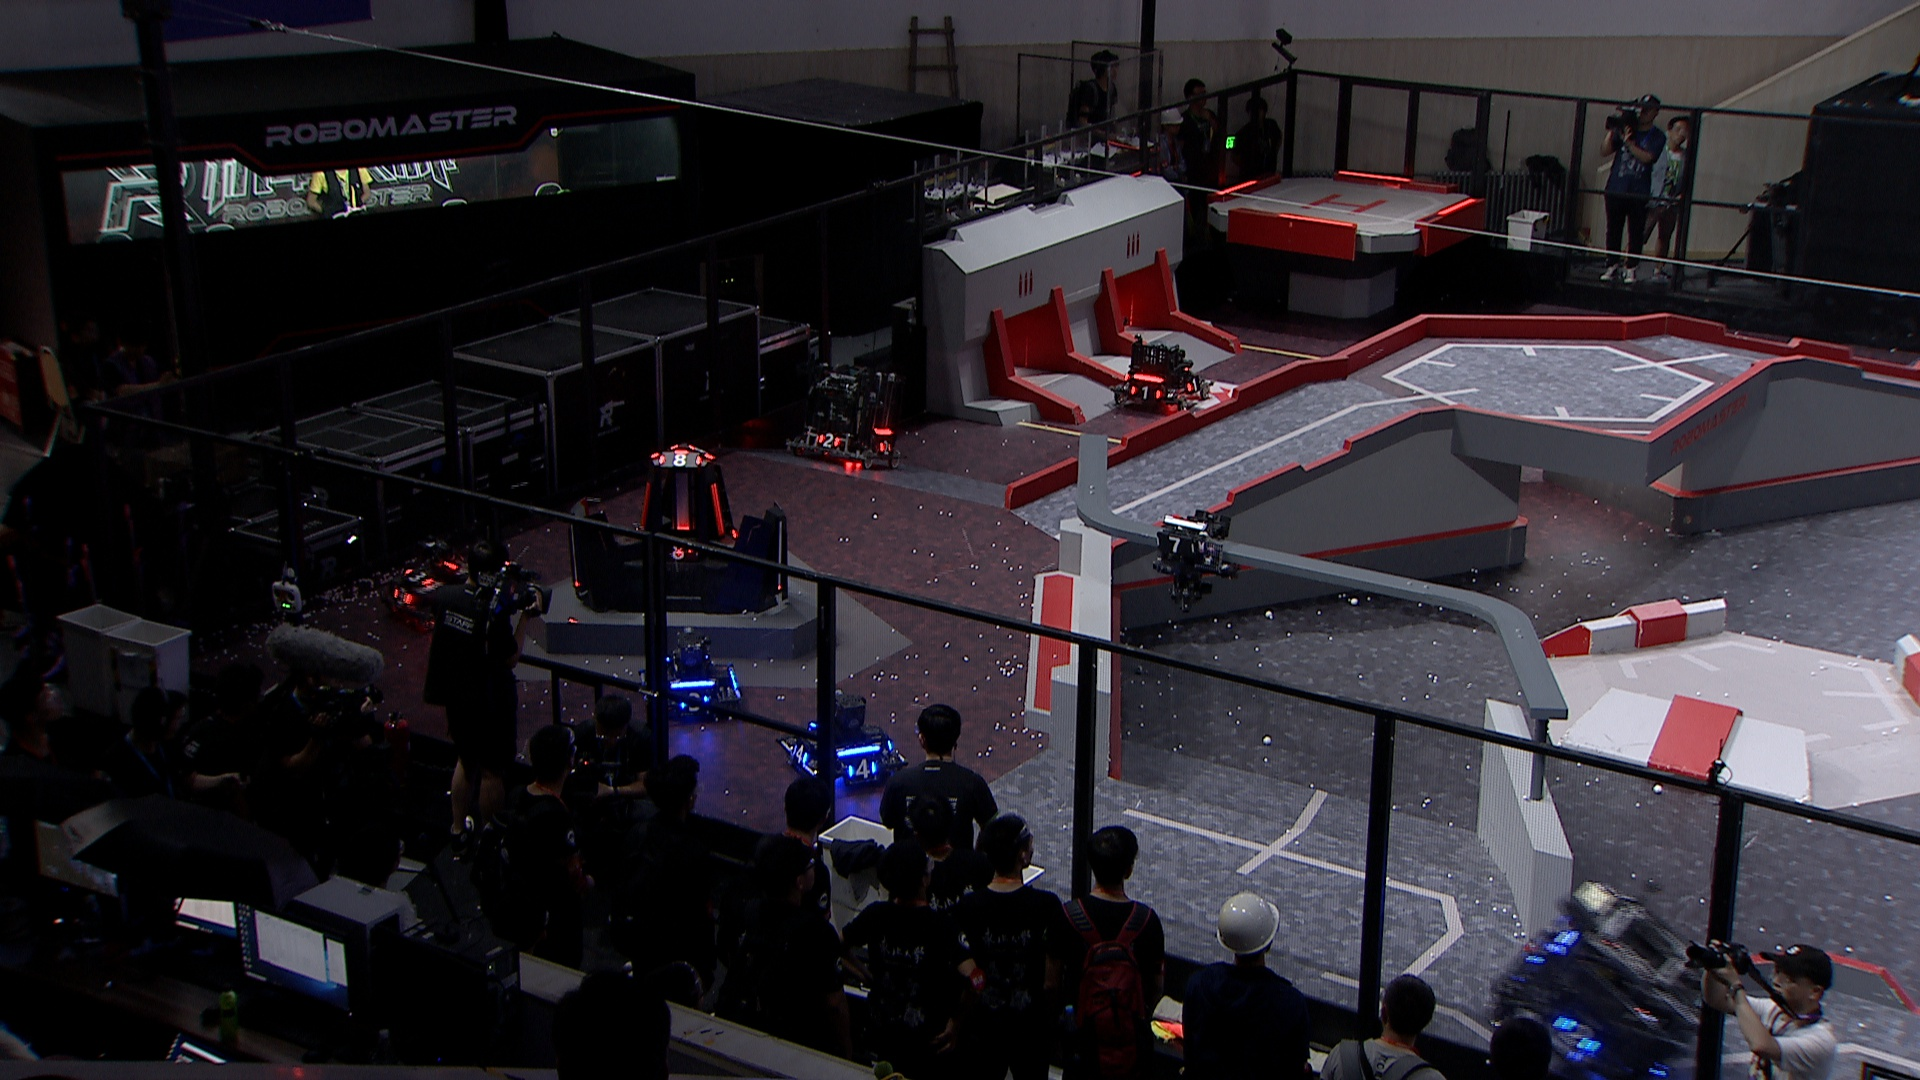armor: (1548, 1015, 1600, 1058), (709, 480, 728, 541), (1153, 534, 1196, 559), (636, 479, 654, 535), (676, 690, 713, 716), (844, 760, 882, 782), (657, 454, 705, 469), (1126, 384, 1164, 404), (405, 564, 434, 589), (666, 545, 702, 564), (814, 433, 843, 451), (390, 585, 414, 607), (793, 741, 811, 767), (1183, 375, 1201, 394), (877, 436, 893, 458)
base: (564, 442, 793, 617)
car: (1485, 878, 1716, 1080), (775, 688, 905, 796), (790, 363, 907, 472), (636, 626, 745, 727), (373, 535, 468, 622), (1112, 334, 1207, 414)
watcher: (1149, 504, 1236, 609)
